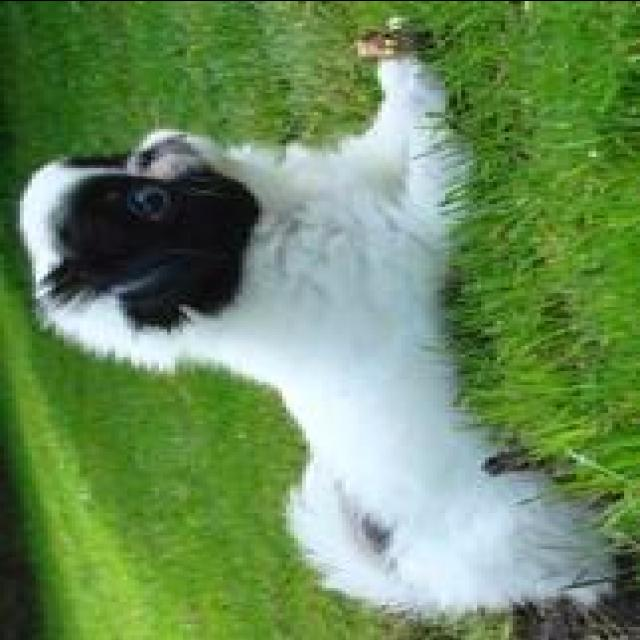husky: (20, 20, 612, 612)
